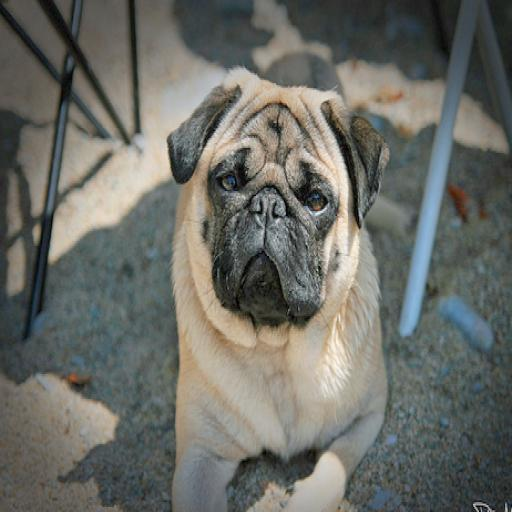dog_face: (165, 58, 386, 324)
